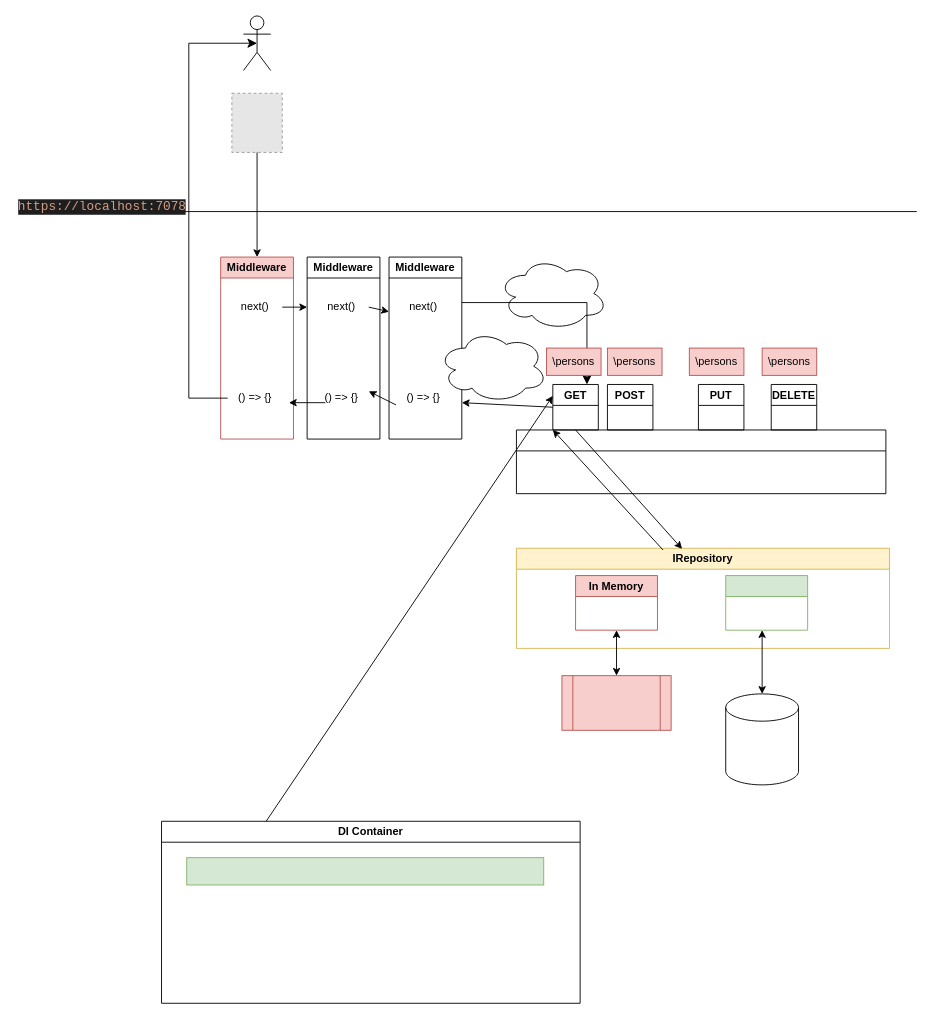
Image size: 934x1019. Some labels were removed from this diagram. Grey dashed boxes stand in for pictures. Here are the shapes that lost their labels. From the top down, the centre of each, then its label:
(257,43): Client
(552,293): http-request
(492,366): http-response
(701,461): Endepunkter
(766,602): MySQL
(616,702): List<Person>
(365,871): AddSingleton<IPersonRepository, PersonMySqlDatabase>()
